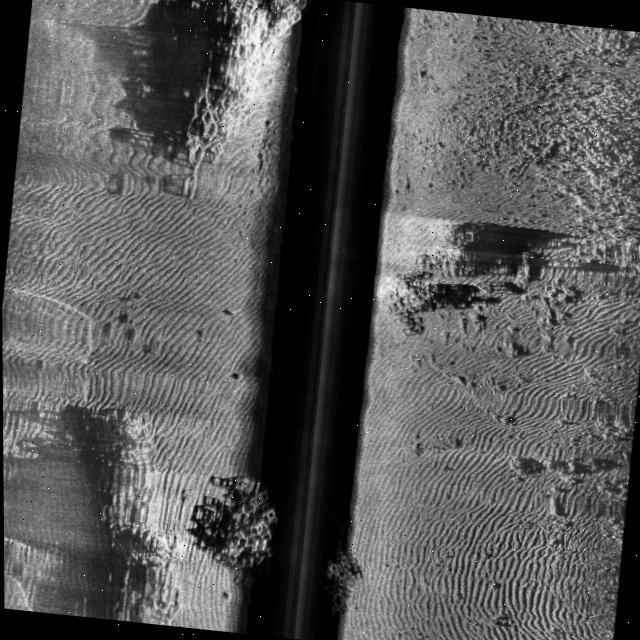artificial reef: (179, 0, 303, 198), (197, 464, 282, 597), (312, 546, 360, 610)
